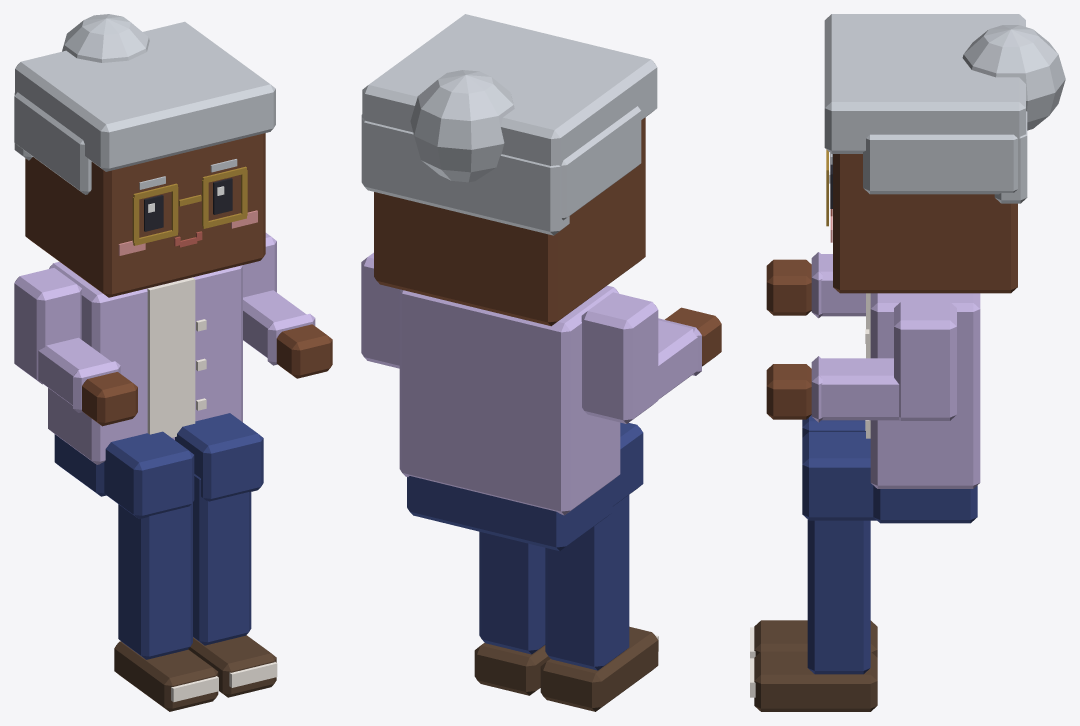
Rendered from CatCafe_NPC_Customer_C_Sit.glb.
3 renders of one model, left to right at view 1: azimuth 30°, elevation 25°; view 2: azimuth 150°, elevation 25°; view 3: azimuth 270°, elevation 25°, orthographic. The views are drawn at different scales.
Visible parts, largest first — view 1: CatCafe_NPC_Customer_C_Sit; view 2: CatCafe_NPC_Customer_C_Sit; view 3: CatCafe_NPC_Customer_C_Sit.
Boxes of the visible parts, x1=… form: CatCafe_NPC_Customer_C_Sit: x1=14, y1=14, x2=332, y2=711; CatCafe_NPC_Customer_C_Sit: x1=361, y1=14, x2=721, y2=711; CatCafe_NPC_Customer_C_Sit: x1=750, y1=14, x2=1065, y2=711.
Size of the model in its own units: 2.24 by 5.28 by 2.3.
1 material, 1 textured.
